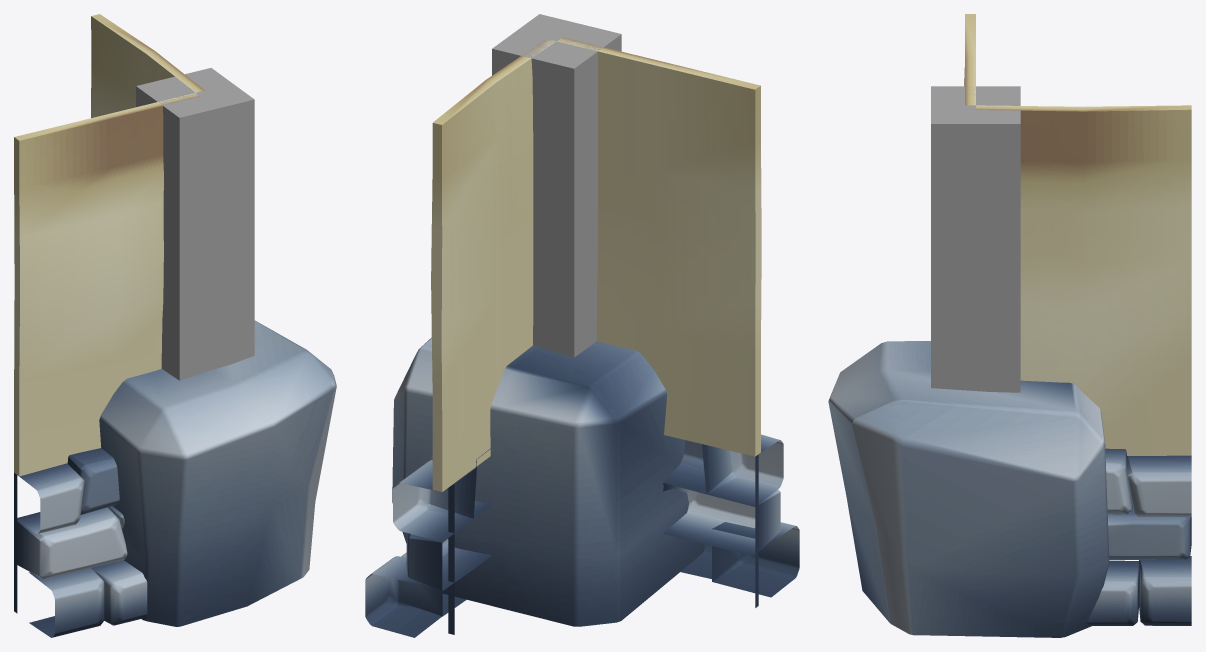
File: Clay_wall_corner_01.fbx
The picture shows the model from 3 angles, left to right: view 1: azimuth 30°, elevation 25°; view 2: azimuth 150°, elevation 25°; view 3: azimuth 270°, elevation 25°; orthographic projection. The views are drawn at different scales.
Visible parts, largest first — view 1: Clay_wall_corner_01; view 2: Clay_wall_corner_01; view 3: Clay_wall_corner_01.
Part boxes in pixels (x1,y1,x2,y2): Clay_wall_corner_01: (14, 14, 336, 637); Clay_wall_corner_01: (365, 14, 799, 637); Clay_wall_corner_01: (828, 14, 1191, 637).
Size of the model in its own units: 3.12 by 5.01 by 3.37.
